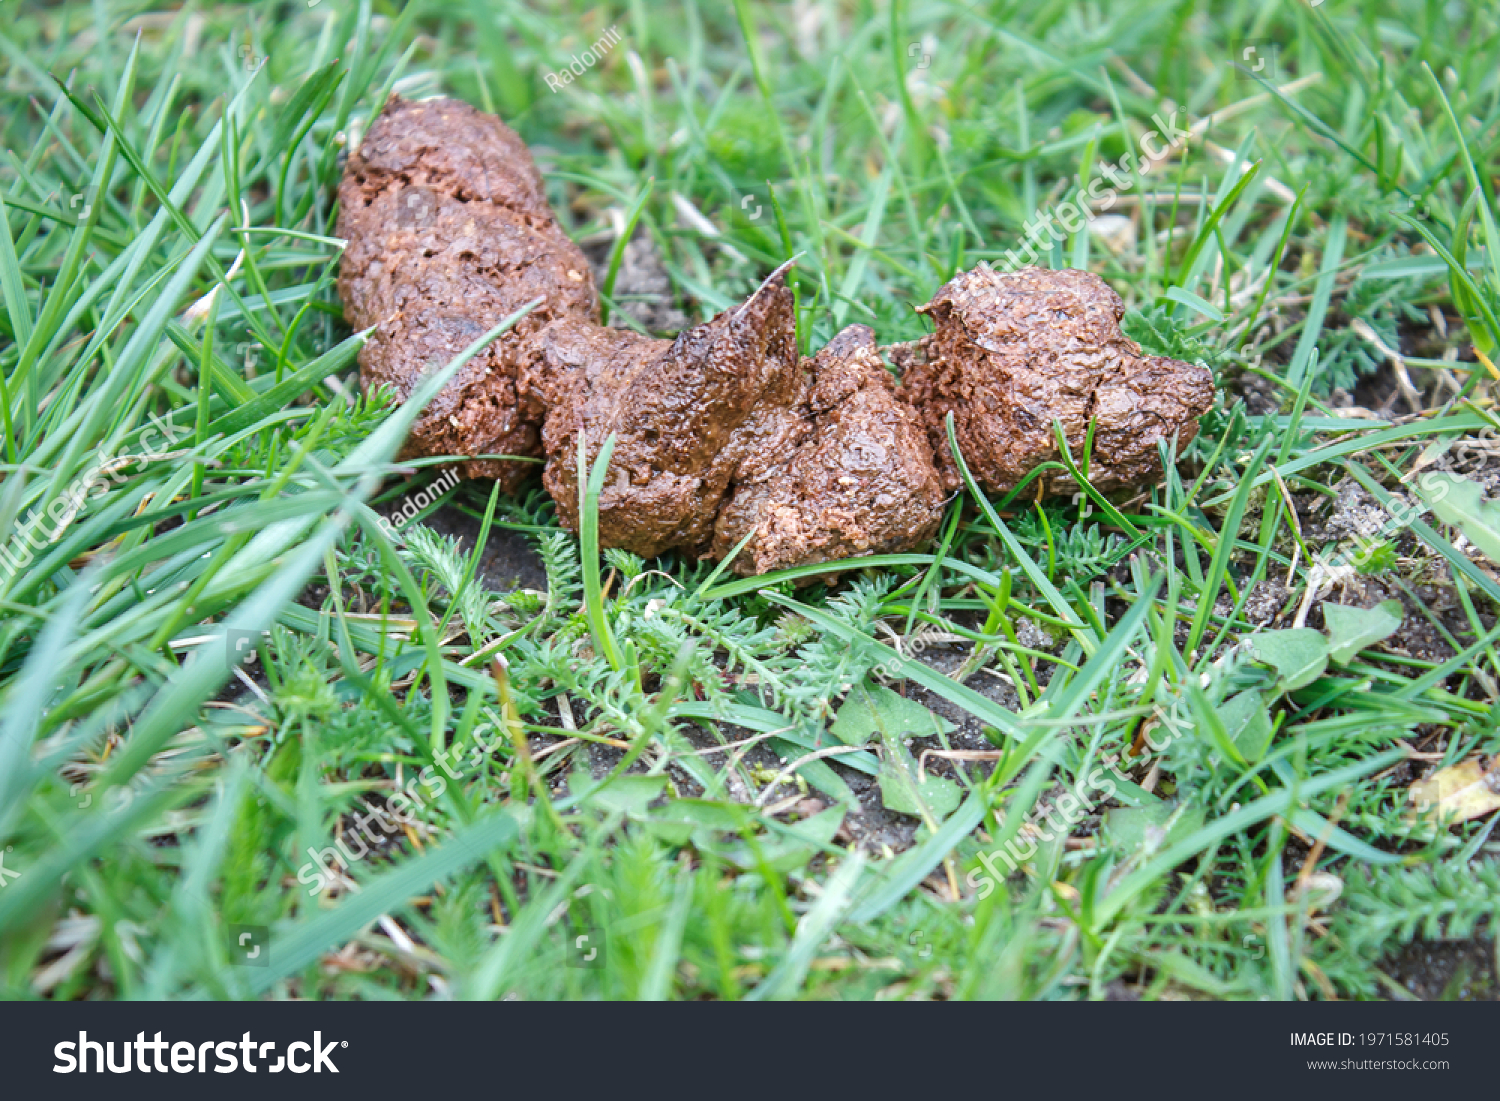Dog: (342, 101, 1204, 556)
